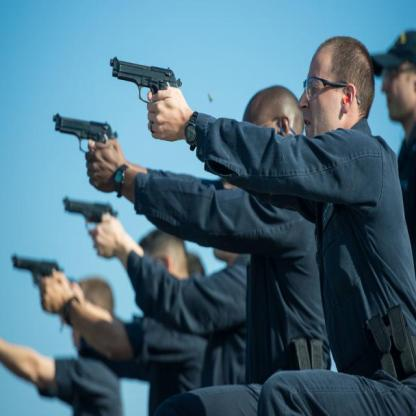criminal: (108, 37, 416, 416)
weapon: (108, 54, 186, 106), (52, 111, 121, 157), (60, 195, 121, 232), (12, 251, 67, 289)
